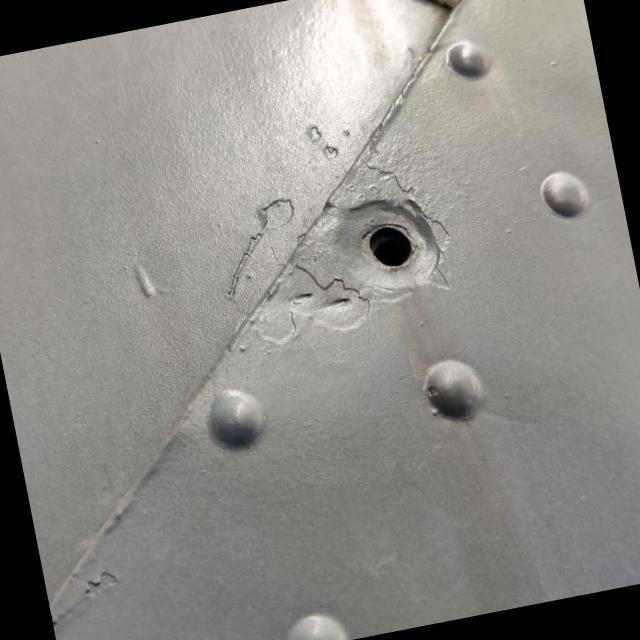Fastener Damage: (287, 150, 483, 340)
